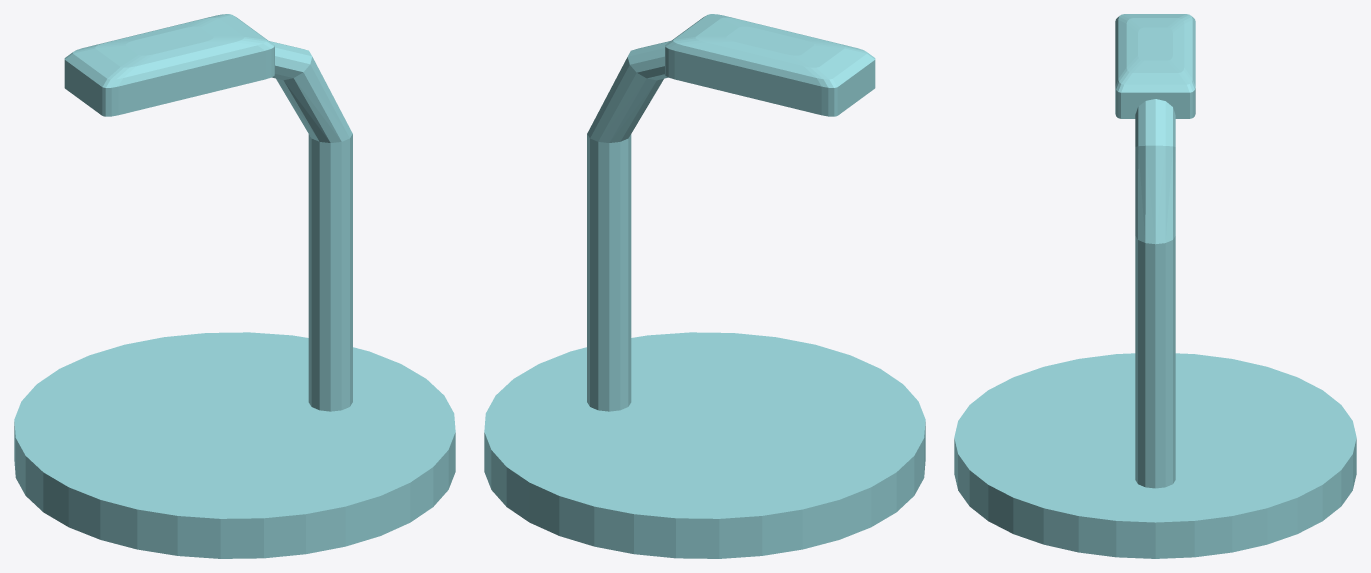
File: lamp_post.dae
3 renders of one model, left to right at view 1: azimuth 30°, elevation 25°; view 2: azimuth 150°, elevation 25°; view 3: azimuth 270°, elevation 25°, orthographic. The views are drawn at different scales.
Parts seen in each view (by area): view 1: Cylinder; view 2: Cylinder; view 3: Cylinder.
Part boxes in pixels (box(x1,y1,x2,y2)): Cylinder: box(14, 14, 455, 558); Cylinder: box(484, 14, 925, 558); Cylinder: box(954, 14, 1356, 558).
Size of the model in its own units: 1000 by 1000 by 1099.
